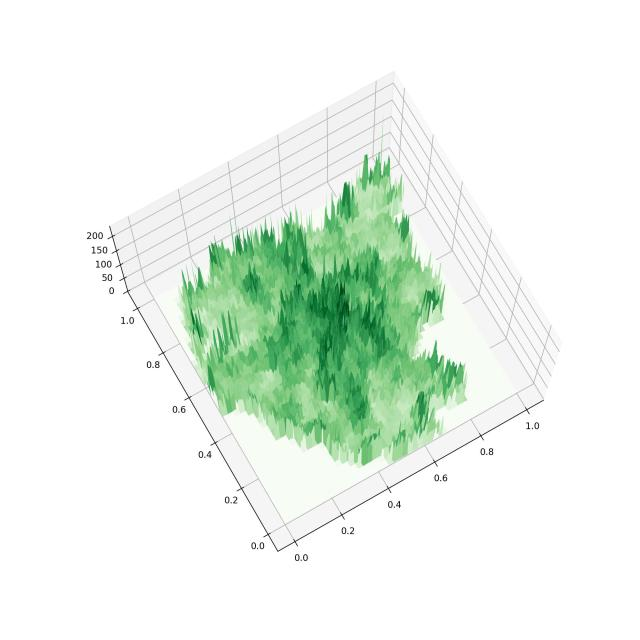fir: (72, 47, 578, 600)
